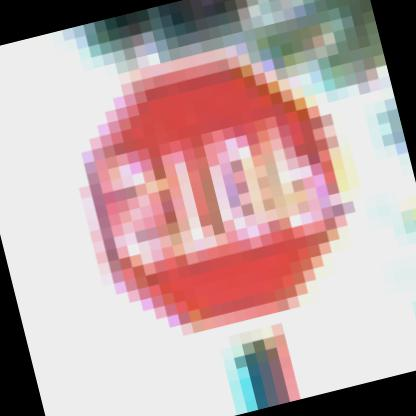stop: (53, 31, 389, 375)
